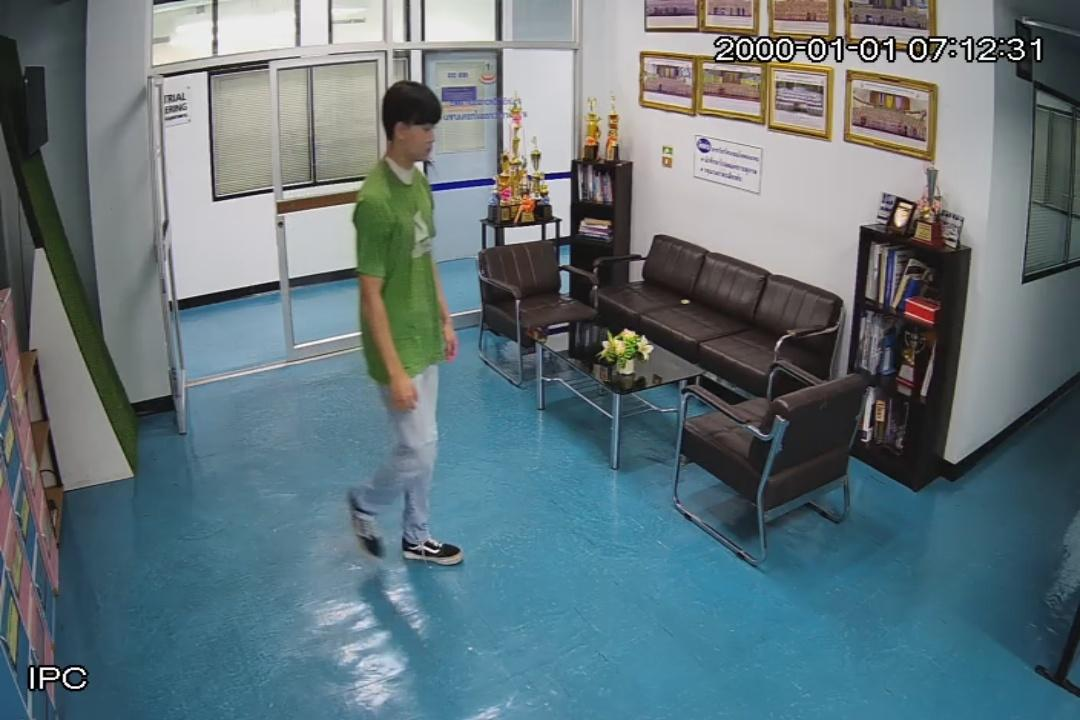normal: (348, 77, 464, 567)
